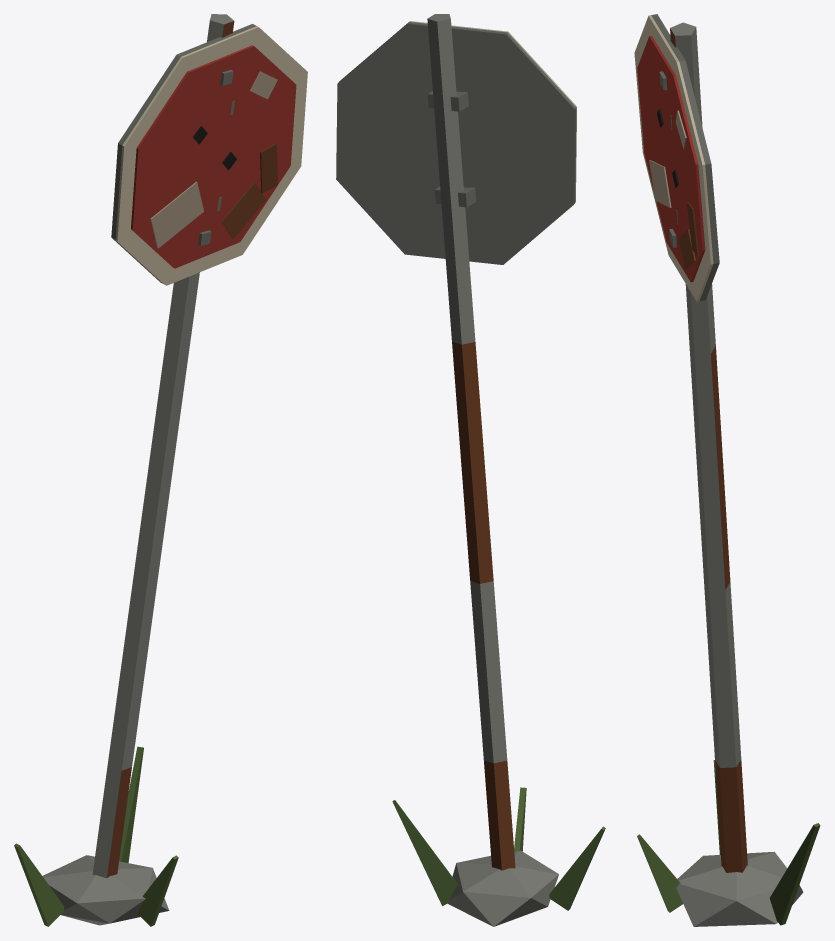
The model's file is placa.glb.
The picture shows the model from 3 angles, left to right: view 1: azimuth 30°, elevation 25°; view 2: azimuth 150°, elevation 25°; view 3: azimuth 270°, elevation 25°; orthographic projection. The views are drawn at different scales.
Parts seen in each view (by area): view 1: placa.001; view 2: placa.001; view 3: placa.001.
Boxes of the visible parts, x1=… form: placa.001: x1=14, y1=14, x2=307, y2=926; placa.001: x1=336, y1=14, x2=605, y2=926; placa.001: x1=634, y1=14, x2=820, y2=926.
Size of the model in its own units: 0.7428 by 2.25 by 0.4025.
